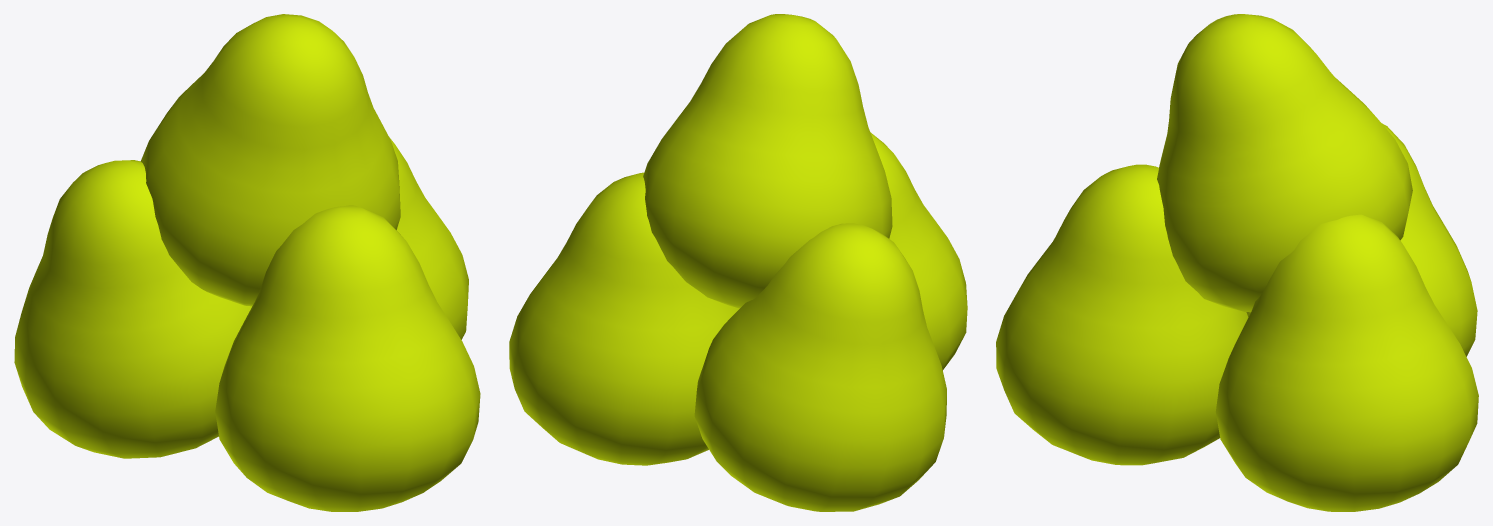
Rendered from FruitPile.gltf.
3 renders of one model, left to right at view 1: azimuth 30°, elevation 25°; view 2: azimuth 150°, elevation 25°; view 3: azimuth 270°, elevation 25°, orthographic. The views are drawn at different scales.
Visible parts, largest first — view 1: Fruit.008, Fruit.009, Fruit.007, Fruit.006; view 2: Fruit.007, Fruit.009, Fruit.006, Fruit.008; view 3: Fruit.006, Fruit.008, Fruit.009, Fruit.007.
Part boxes in pixels (x1,y1,x2,y2): Fruit.008: (215,205,480,511); Fruit.009: (140,14,400,306); Fruit.007: (14,160,251,458); Fruit.006: (389,137,468,339); Fruit.007: (694,223,946,511); Fruit.009: (643,14,892,308); Fruit.006: (509,172,739,465); Fruit.008: (870,132,967,370); Fruit.006: (1215,214,1478,511); Fruit.008: (996,164,1248,465); Fruit.009: (1157,14,1412,312); Fruit.007: (1246,123,1477,356).
Bounding box in the file's own units: 0.3688 × 0.3648 × 0.3712.
